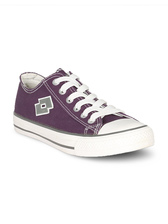shoes: (7, 67, 157, 159)
